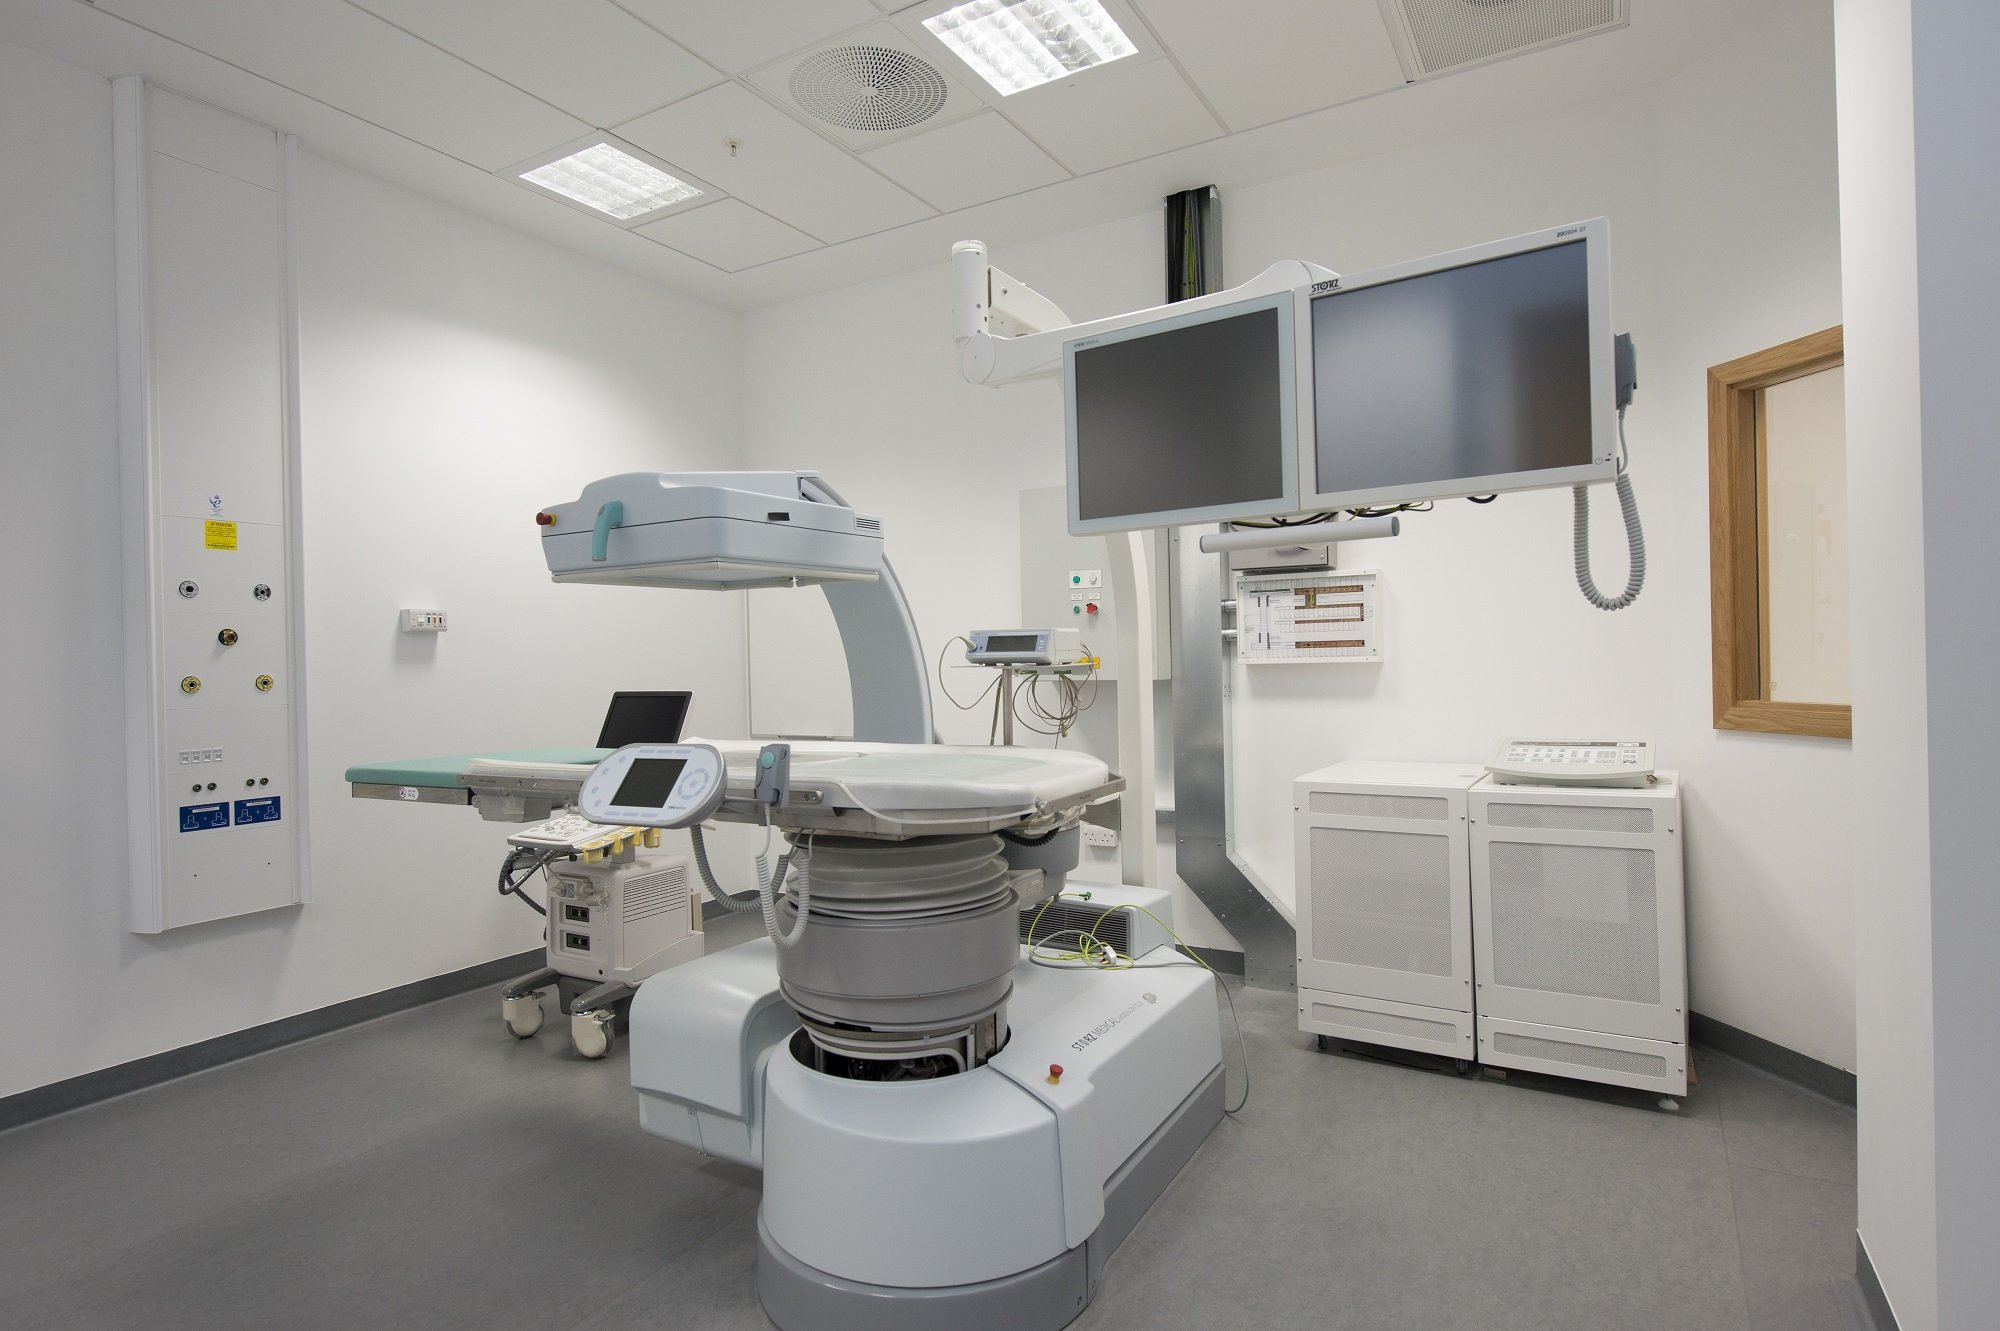bedside_monitor: (1292, 220, 1618, 518), (1062, 287, 1298, 533), (597, 692, 693, 755)
exam_table: (336, 735, 1160, 1145)
